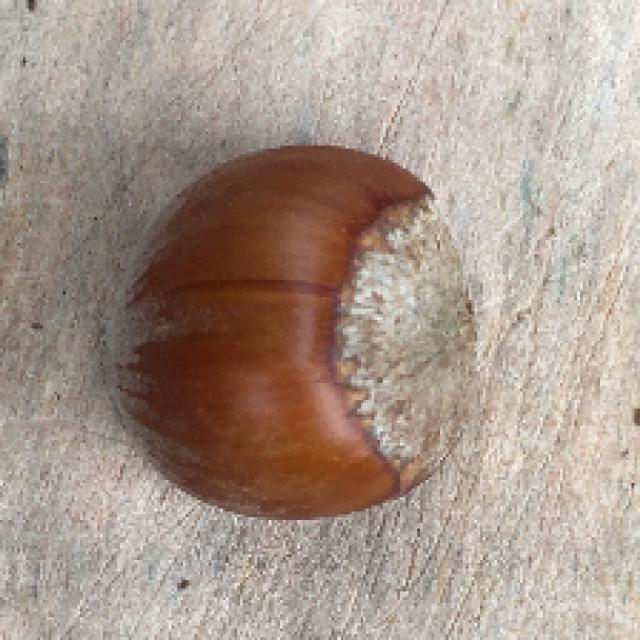qualityHazelnut: (101, 138, 481, 526)
